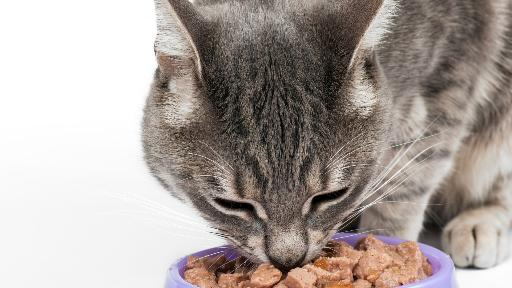cat_eating: (142, 0, 512, 288)
